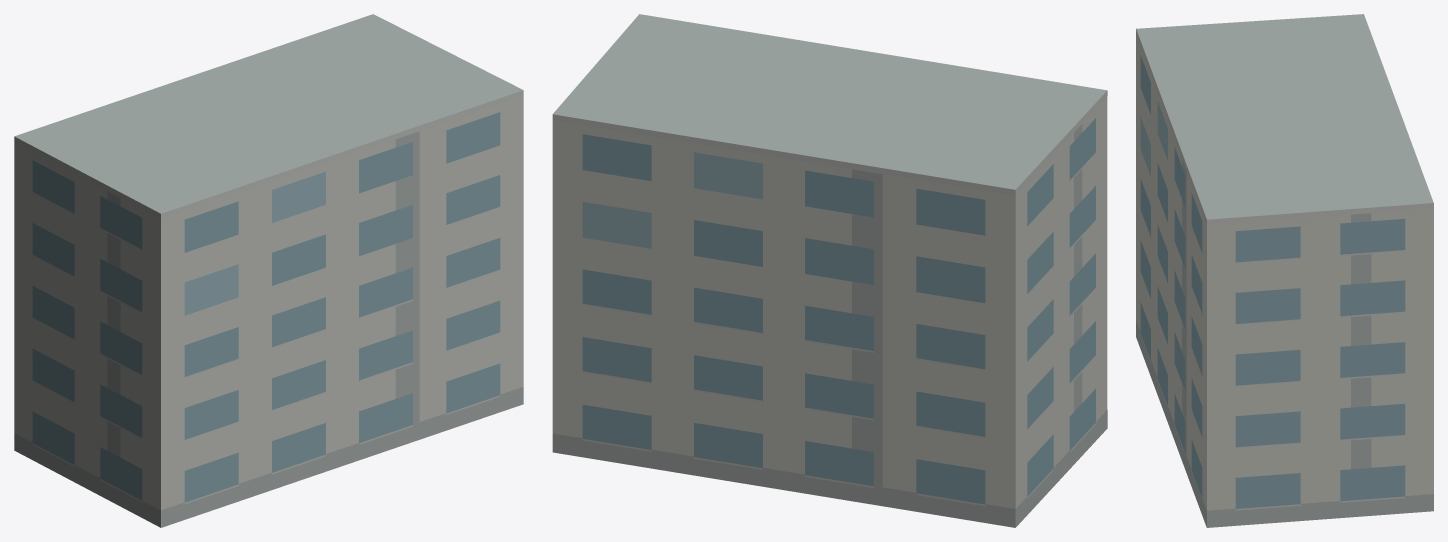
File: survey-upis-32577303.glb
3 views of the same model, side by side, from view 1: azimuth 30°, elevation 25°; view 2: azimuth 150°, elevation 25°; view 3: azimuth 270°, elevation 25° (orthographic). The views are drawn at different scales.
Parts seen in each view (by area): view 1: survey-upis-32577303.tmp; view 2: survey-upis-32577303.tmp; view 3: survey-upis-32577303.tmp.
Boxes of the visible parts, x1=… form: survey-upis-32577303.tmp: x1=14, y1=14, x2=523, y2=527; survey-upis-32577303.tmp: x1=552, y1=14, x2=1107, y2=527; survey-upis-32577303.tmp: x1=1136, y1=14, x2=1433, y2=527.
Size of the model in its own units: 19.4 by 13.55 by 11.87.
